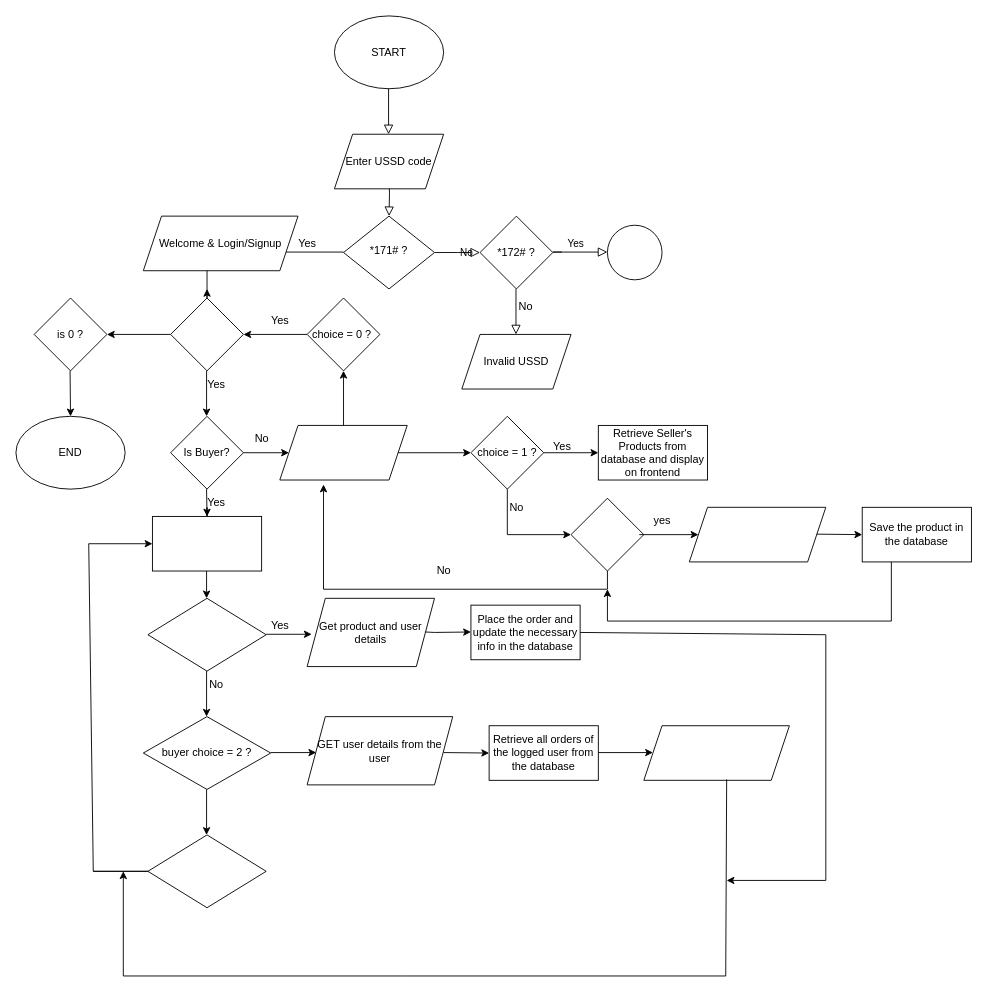
Image size: 987x999. Some labels were removed from this diagram. Each missing label, with the centre of its shape:
"A1" goes at point 634,252.
"buyer choice = 0" goes at point 206,871.
"buyer choice = 1 ?" goes at point 206,634.
"choice = 2 ?" goes at point 607,534.
"Display the products" goes at point 716,752.
"Login" goes at point 206,334.
"Render Create Product Form" goes at point 757,534.
"Retrieve Products from database and display on frontend" goes at point 207,543.
"Seller Dashboard & Seller Choice" goes at point 343,452.
